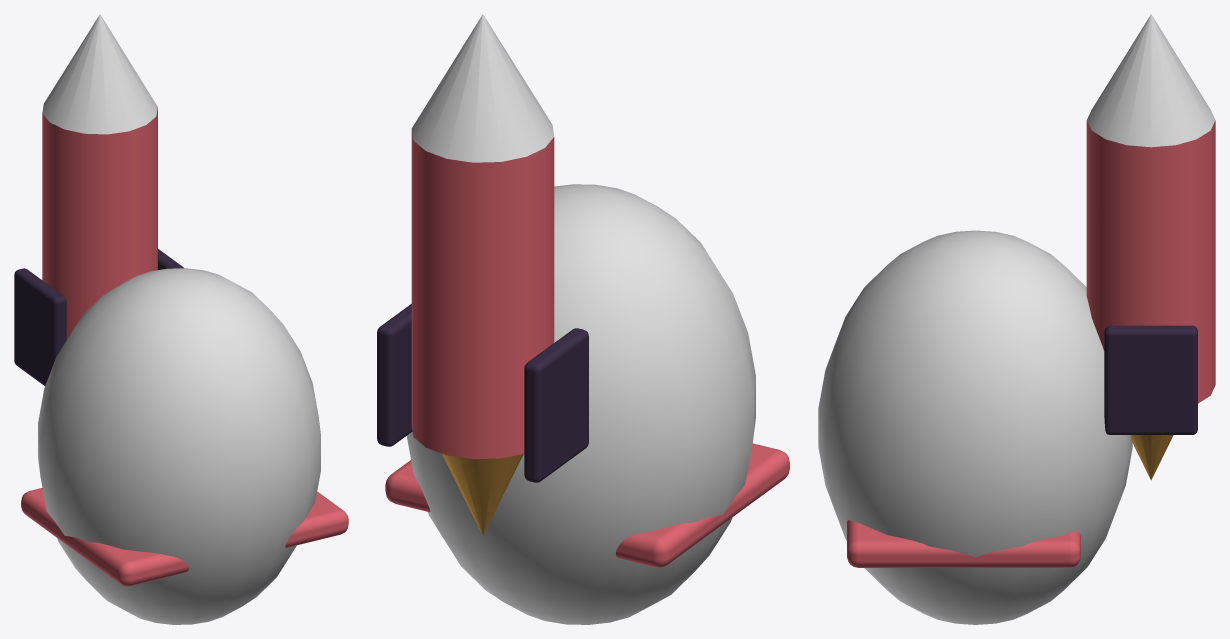
The model's file is agent-release.glb.
3 views of the same model, side by side, from view 1: azimuth 30°, elevation 25°; view 2: azimuth 150°, elevation 25°; view 3: azimuth 270°, elevation 25° (orthographic). The views are drawn at different scales.
Parts seen in each view (by area): view 1: agentRelease; view 2: agentRelease; view 3: agentRelease.
Boxes of the visible parts, left/top/right/bottom form: agentRelease: left=14, top=14, right=348, bottom=624; agentRelease: left=377, top=14, right=789, bottom=624; agentRelease: left=818, top=14, right=1215, bottom=624.
Bounding box in the file's own units: 0.537 × 1.13 × 0.6785.
